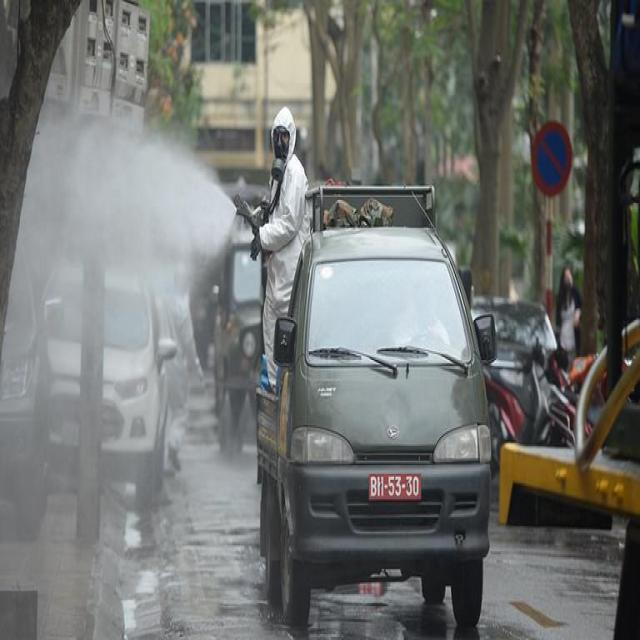License-Plates: (368, 471, 421, 502)
